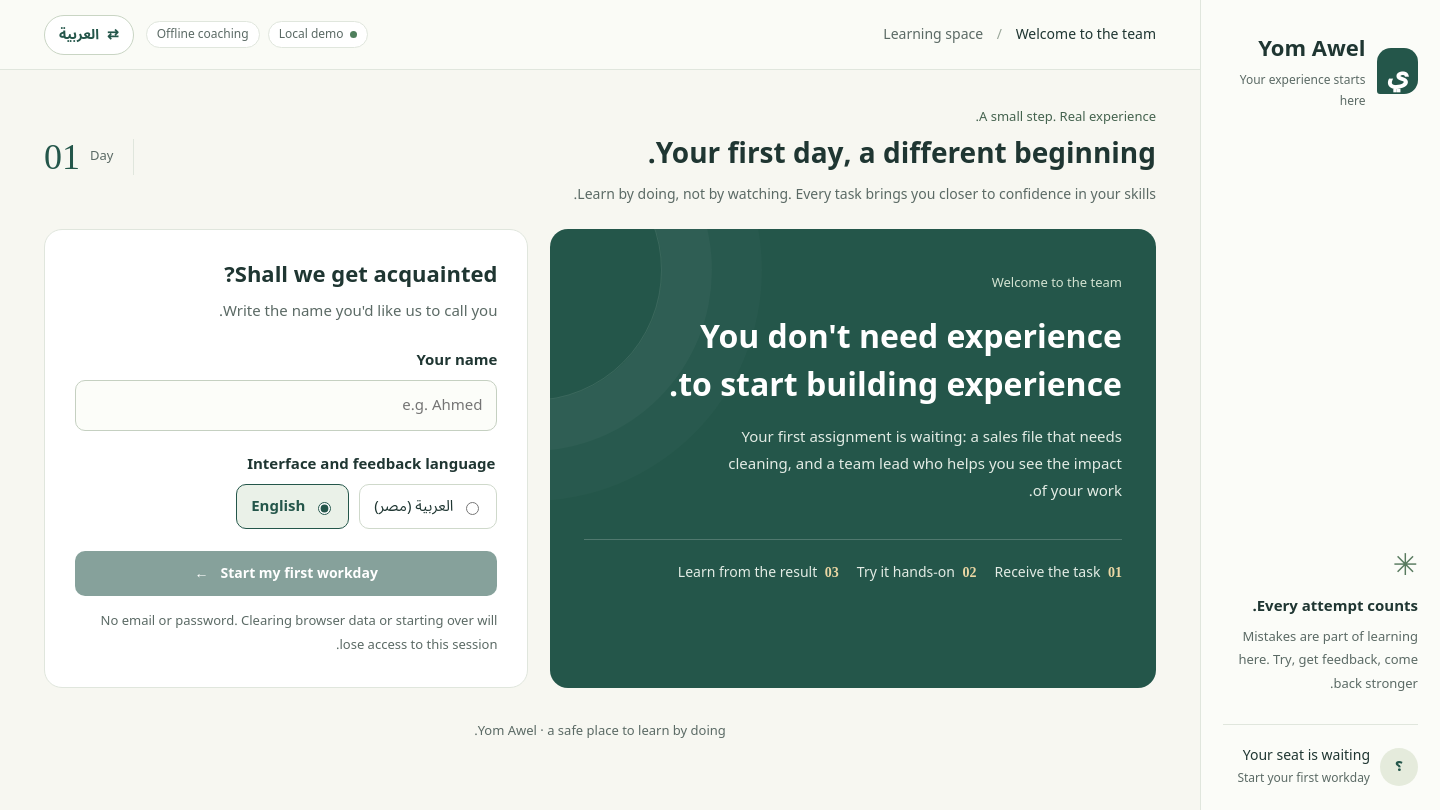
Workplace against the typed contract mock › judge mode: a one-click sample goes through the normal upload and ticks the tour
The width and height of the screenshot is (1440, 810).
Type "Judge" into the field. click: (286, 406)
box: [75,380,498,431]
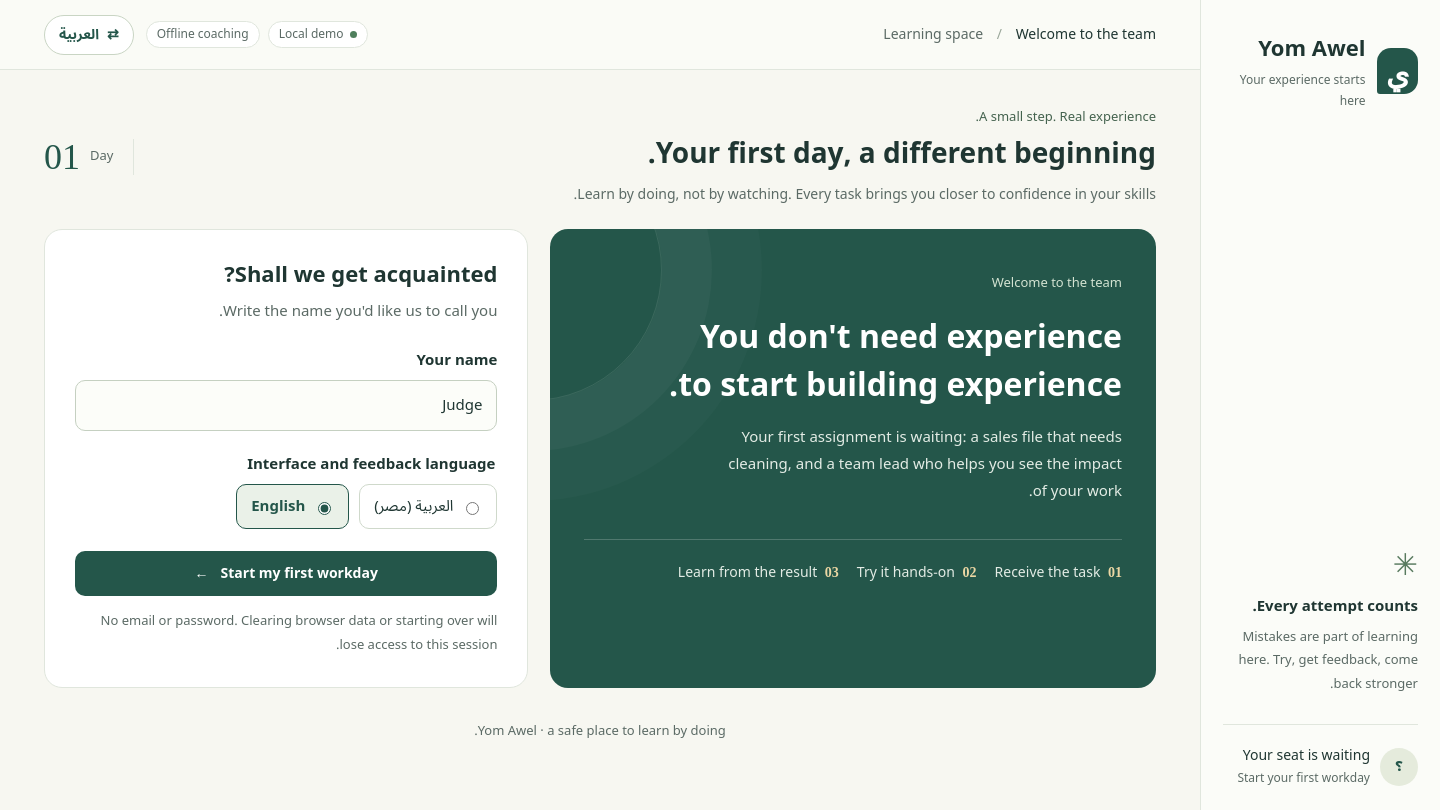
Click the button "Start my first workday". click: click(286, 574)
box: [75,551,498,596]
(page scrolled)
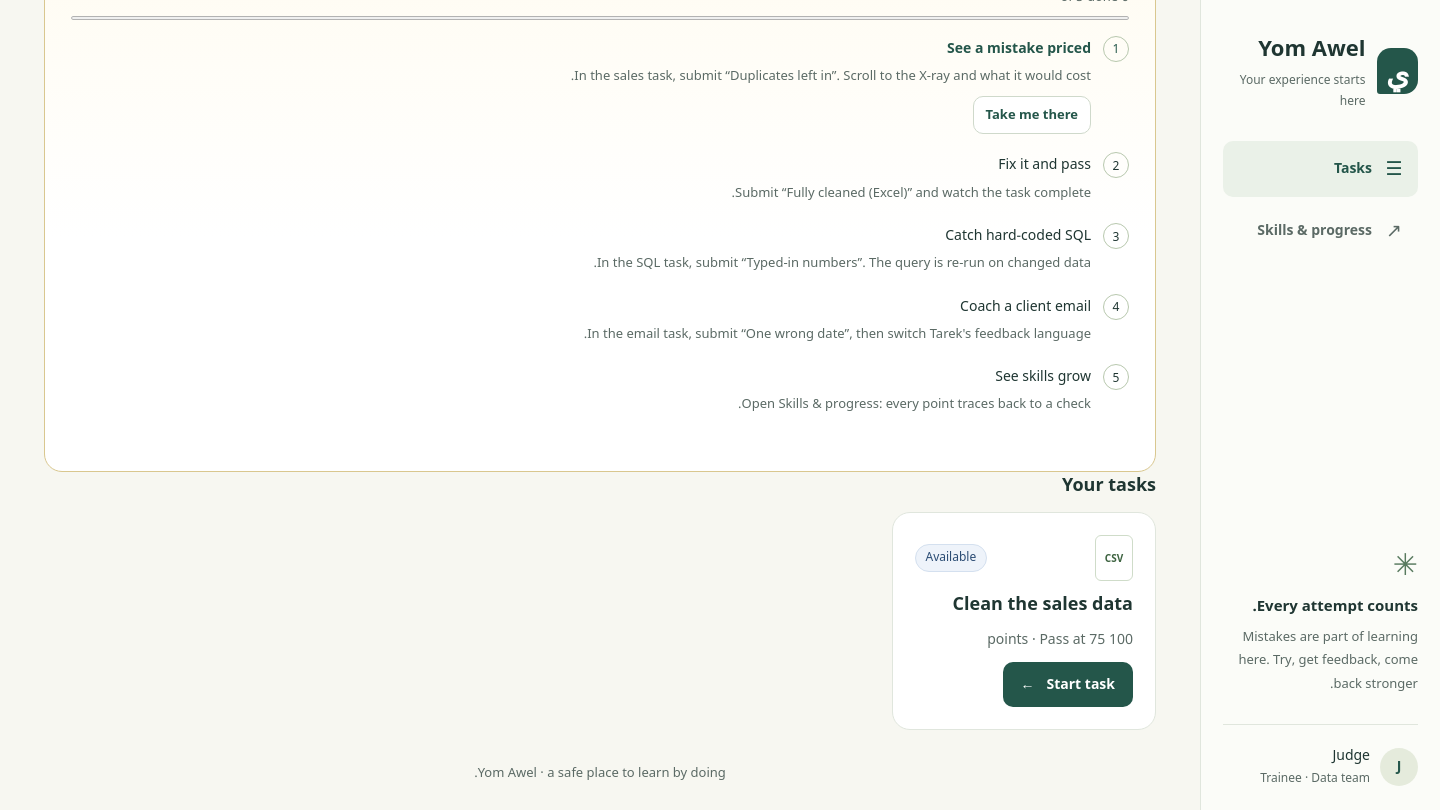
Click the button "Start task". click: click(1068, 685)
box: [1002,662,1133,707]
(page scrolled)
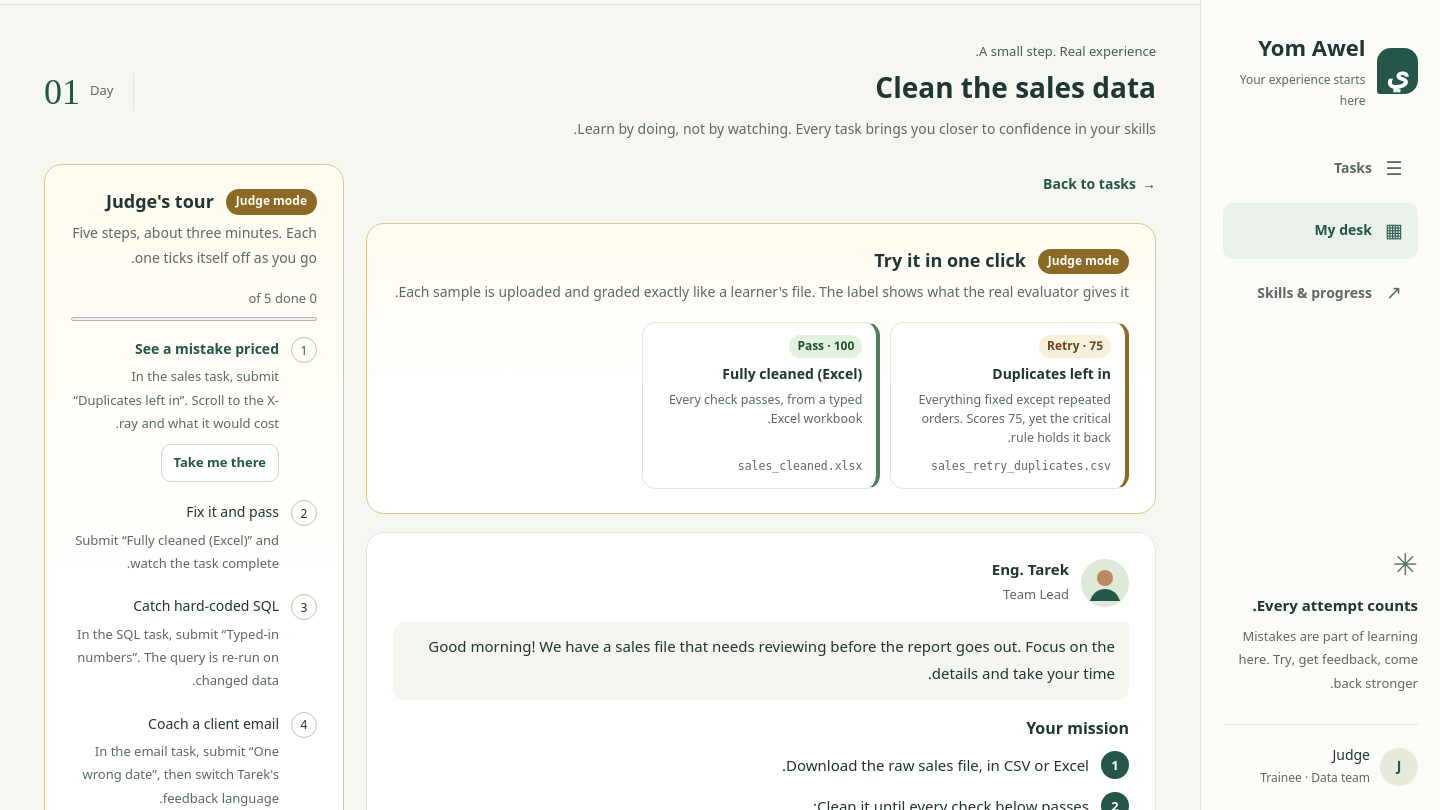
Result: the element "Judge's tour" shows "0 of 5 done" at [248,285,317,313]
Result: the button that starts with "Pass · 100" is shown at [642,322,880,489]
Click the button that starts with "Retry · 75". click: click(1010, 405)
box: [890,322,1129,489]
(page scrolled)
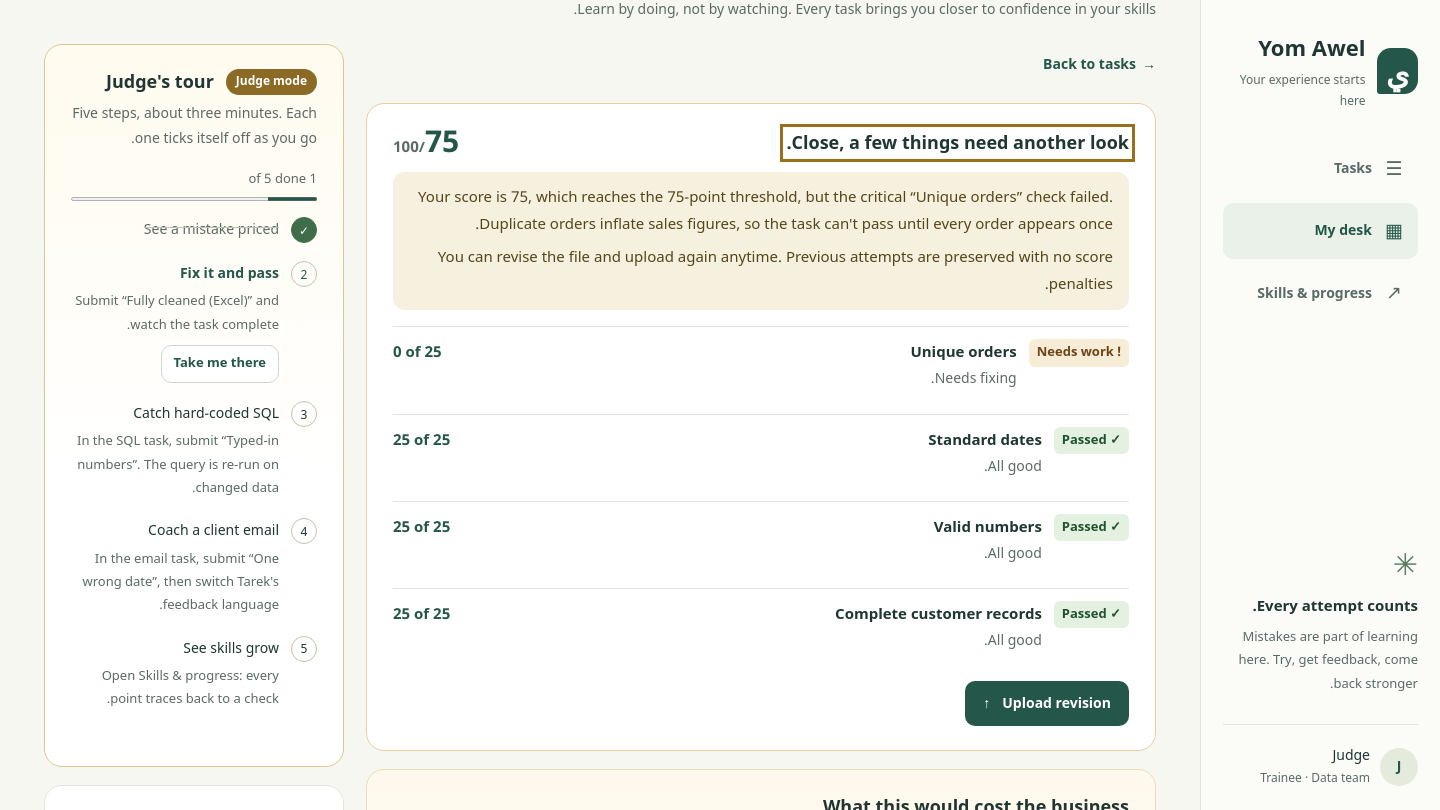
Result: the heading "Close, a few things need another look." is shown at [786,130,1129,156]
Result: the element "Judge's tour" shows "1 of 5 done" at [248,165,317,193]
